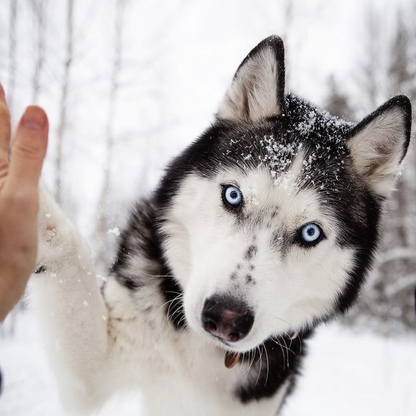husky: (28, 29, 415, 412)
